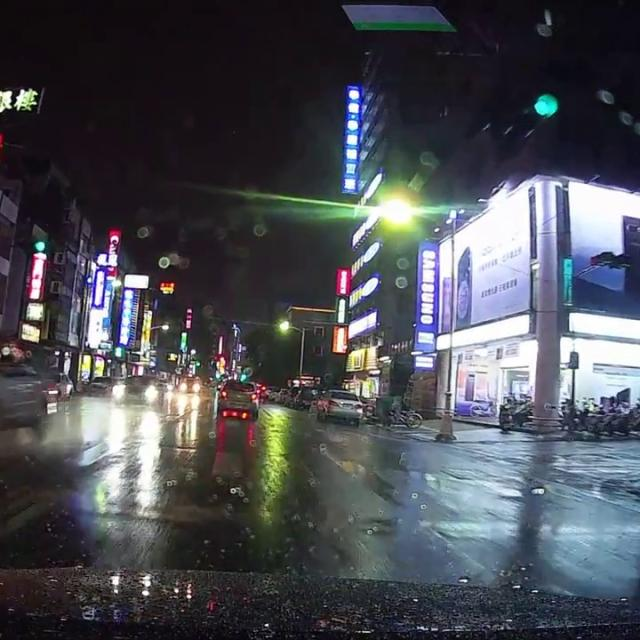Car: (1, 347, 56, 443), (212, 379, 259, 416), (112, 374, 163, 408), (314, 388, 362, 423), (181, 374, 200, 395)
